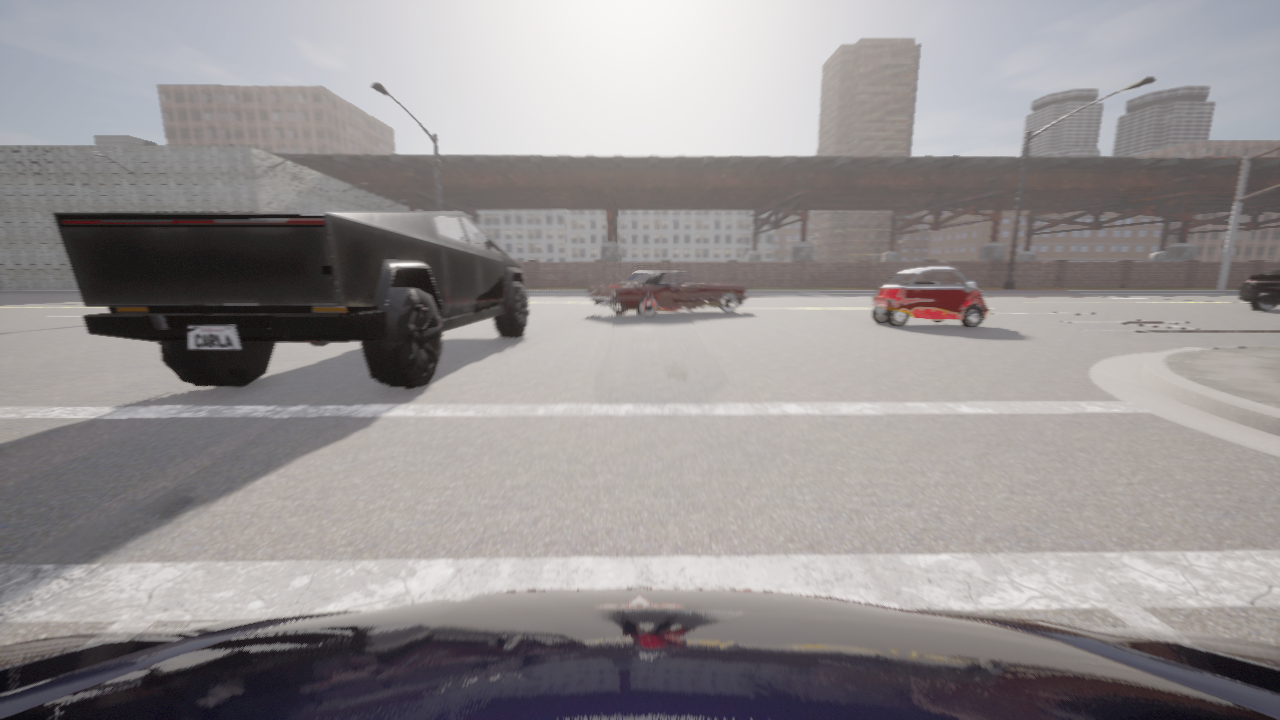cyclist: (0, 588, 1279, 719), (54, 211, 531, 389), (589, 270, 749, 317), (871, 266, 989, 327), (1239, 270, 1279, 310)
